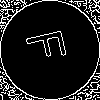F: (25, 25, 76, 65)
